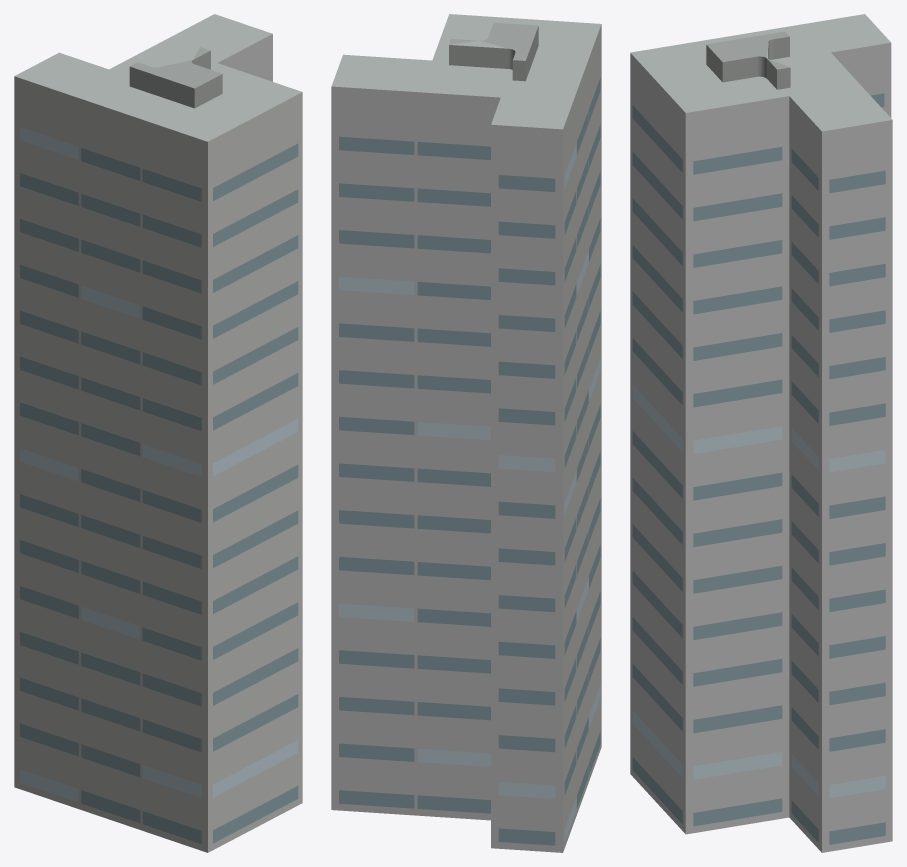
Rendered from fallback-songpa-helio-city-102.glb.
The picture shows the model from 3 angles, left to right: view 1: azimuth 30°, elevation 25°; view 2: azimuth 150°, elevation 25°; view 3: azimuth 270°, elevation 25°; orthographic projection.
Visible parts, largest first — view 1: fallback-songpa-helio-city-102; view 2: fallback-songpa-helio-city-102; view 3: fallback-songpa-helio-city-102.
Part boxes in pixels (left/top/right/bottom): fallback-songpa-helio-city-102: left=14, top=14, right=302, bottom=852; fallback-songpa-helio-city-102: left=331, top=14, right=601, bottom=852; fallback-songpa-helio-city-102: left=630, top=14, right=892, bottom=852.
Size of the model in its own units: 29.91 by 88 by 28.23.
